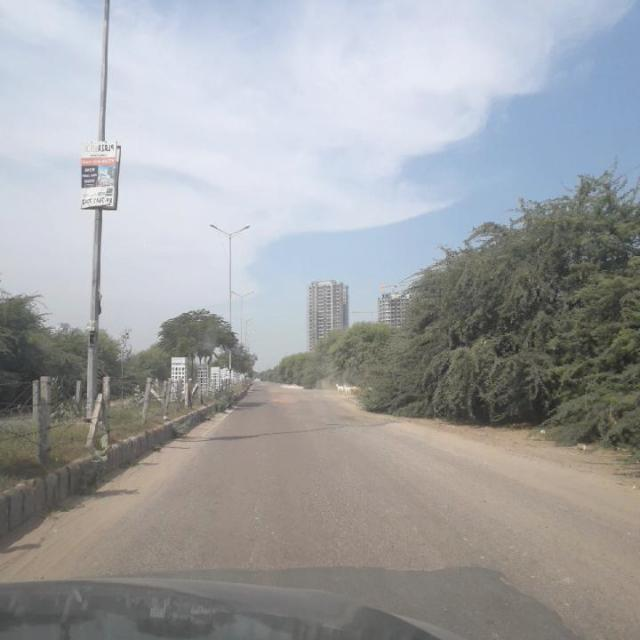crack: (117, 436, 479, 574)
